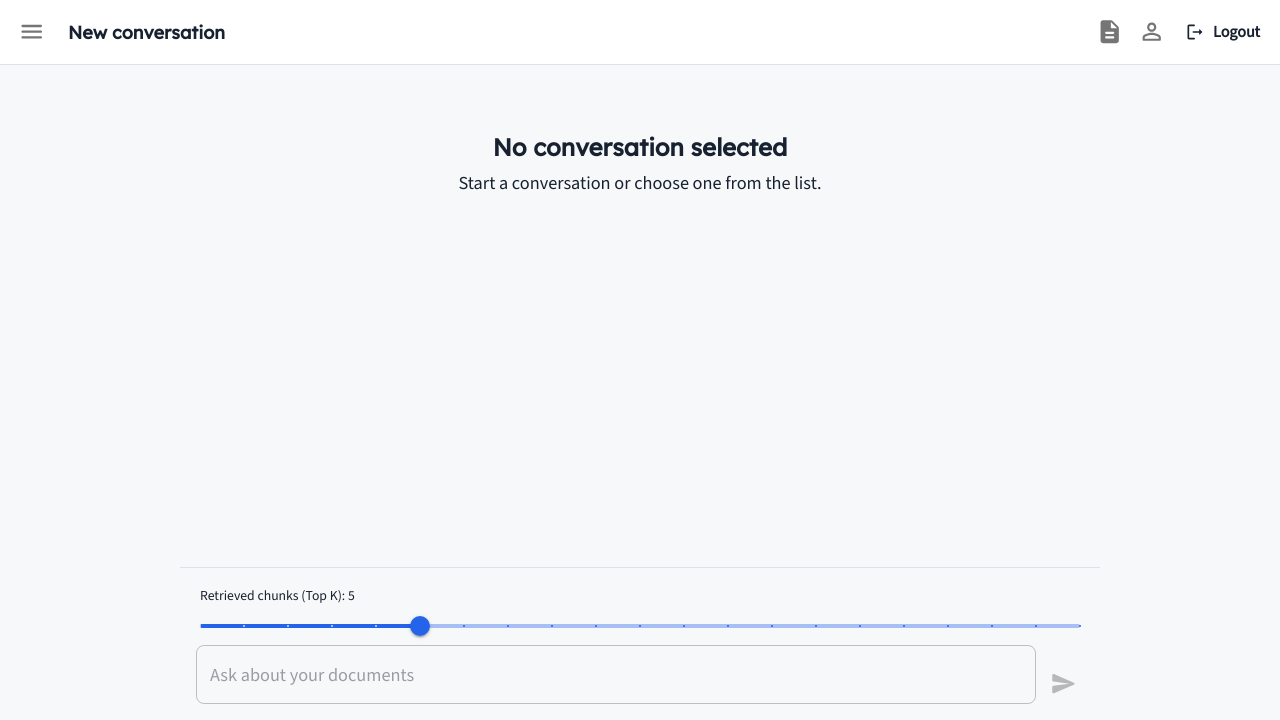
Test case: ChatWorkspace › shows calculator tool activity while streaming, then the resolved result
Step 1. Type "What is 47 times 89?" into the text box named "Question" → (616, 674), box [210, 662, 1022, 688]
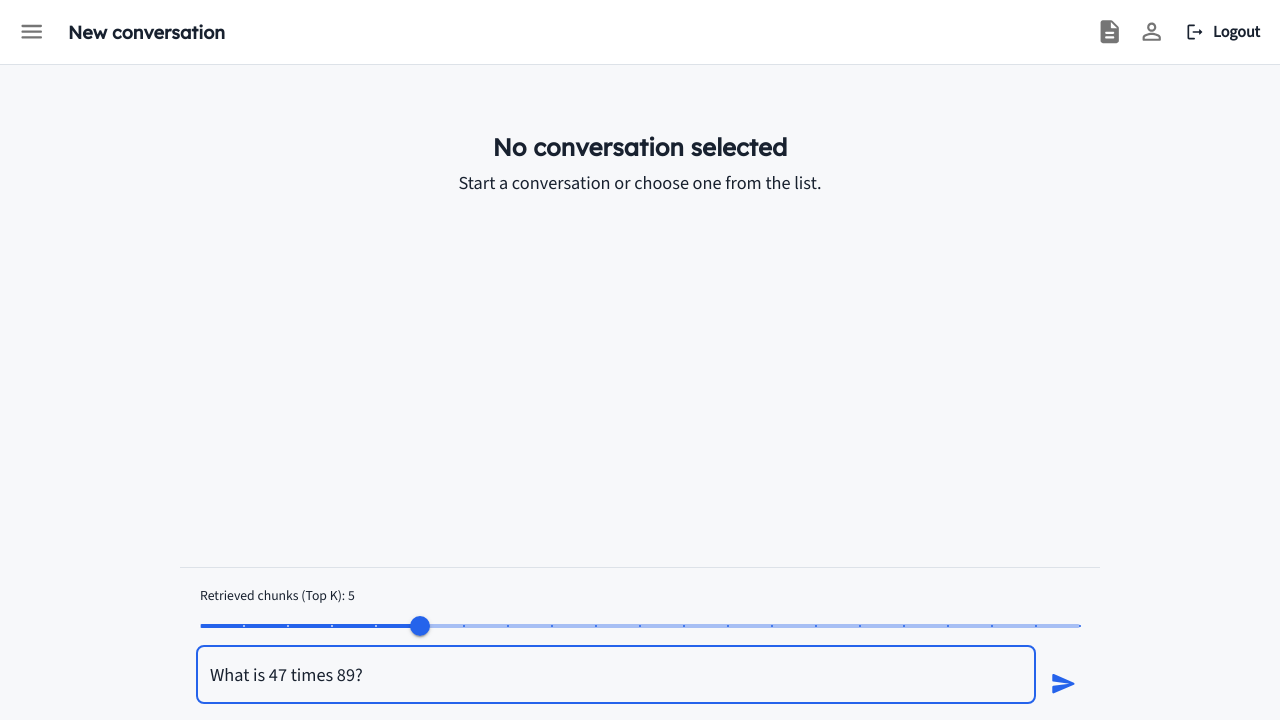
Step 2. Click the button named "Send message" → (1064, 684), box [1044, 664, 1084, 704]
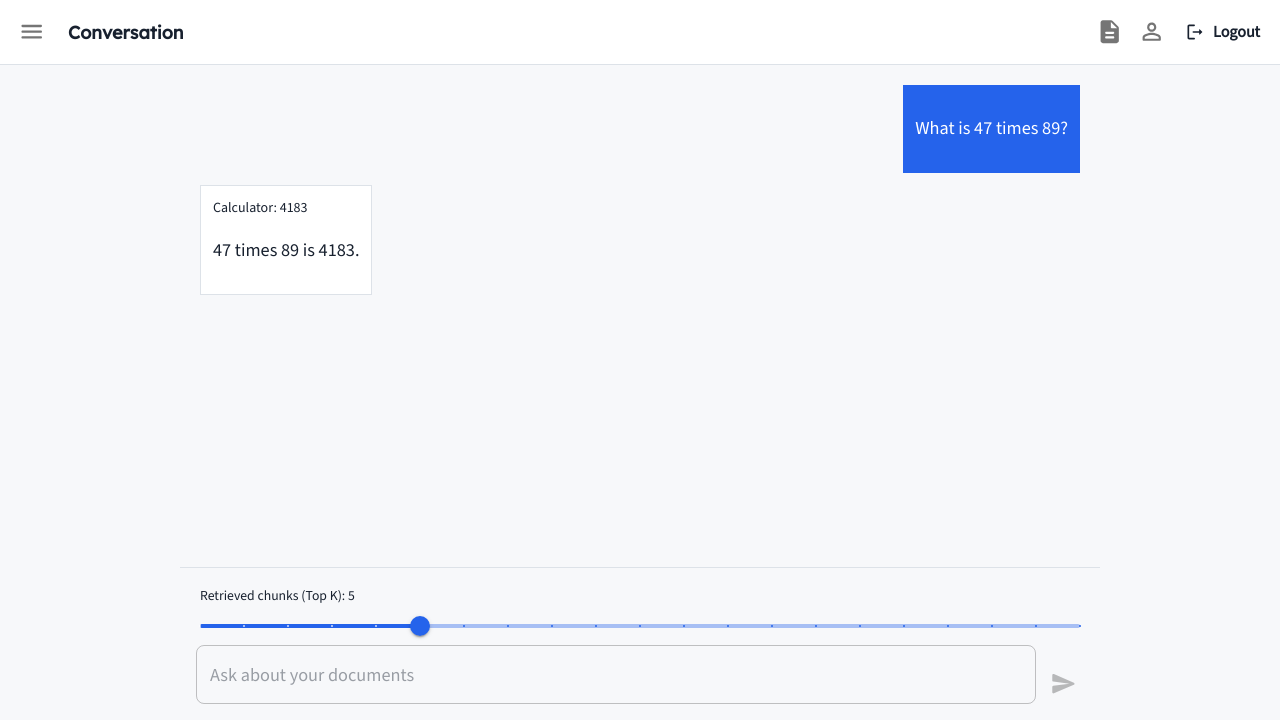
Expected: the text "Calculator: 4183" is shown, [213, 198, 308, 218]
Expected: the text "47 times 89 is 4183." is shown, [213, 237, 360, 264]
